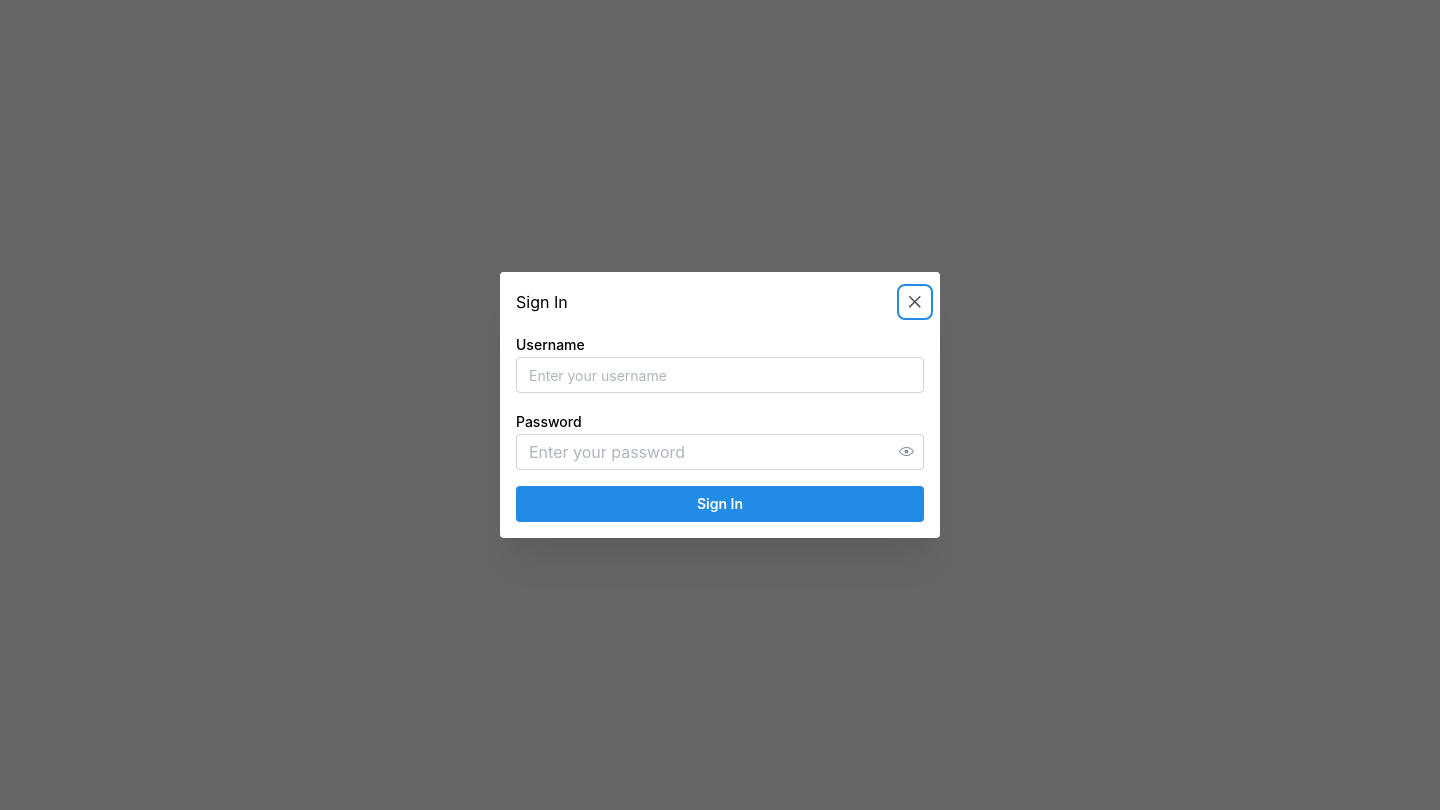
Scenario: <SignInModal /> › successful login › shows welcome message after successful login
In the field labelled "Username": (720, 375) [516,357,924,393], type "test-user"
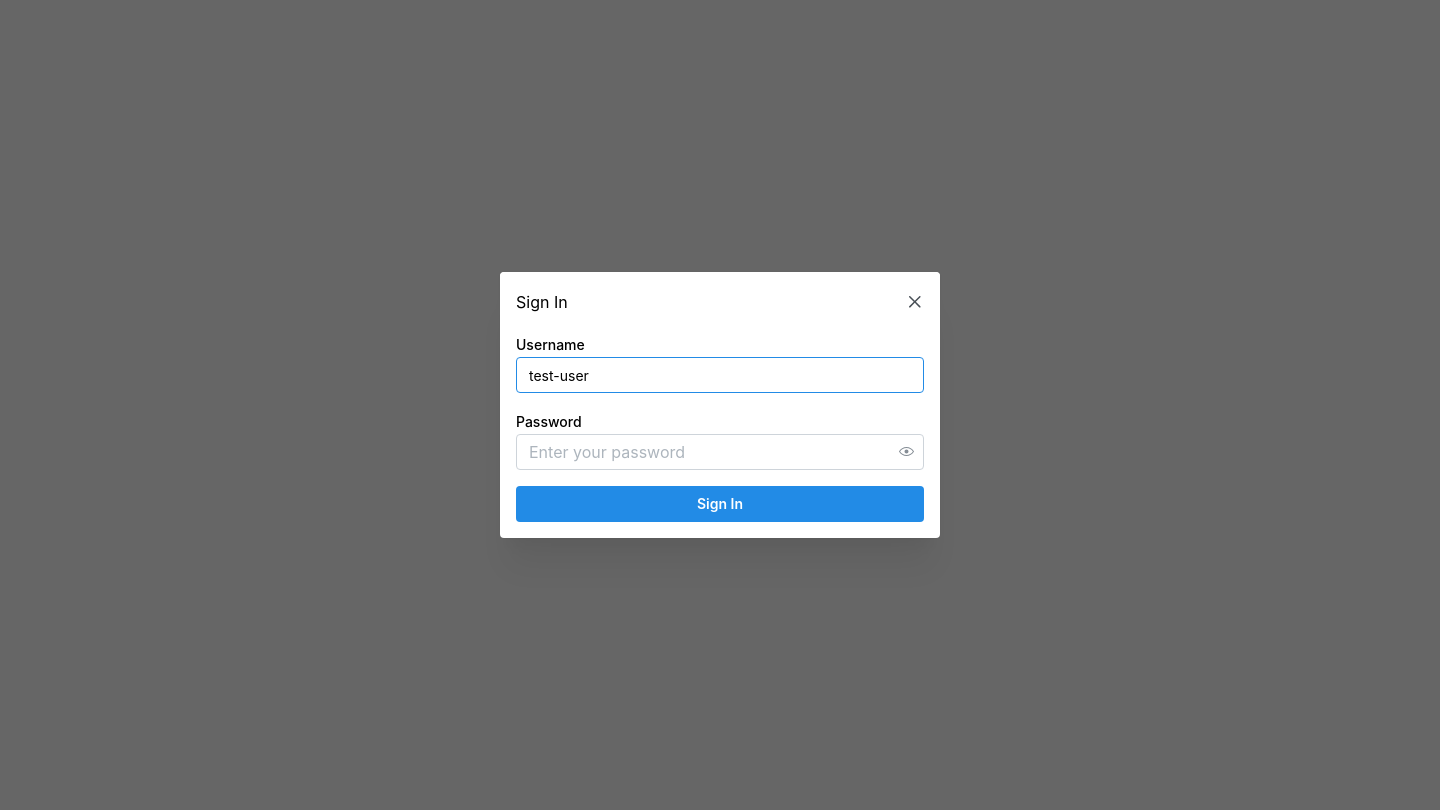
In the password field labelled "Password": (720, 452) [517,435,923,469], type "secret"
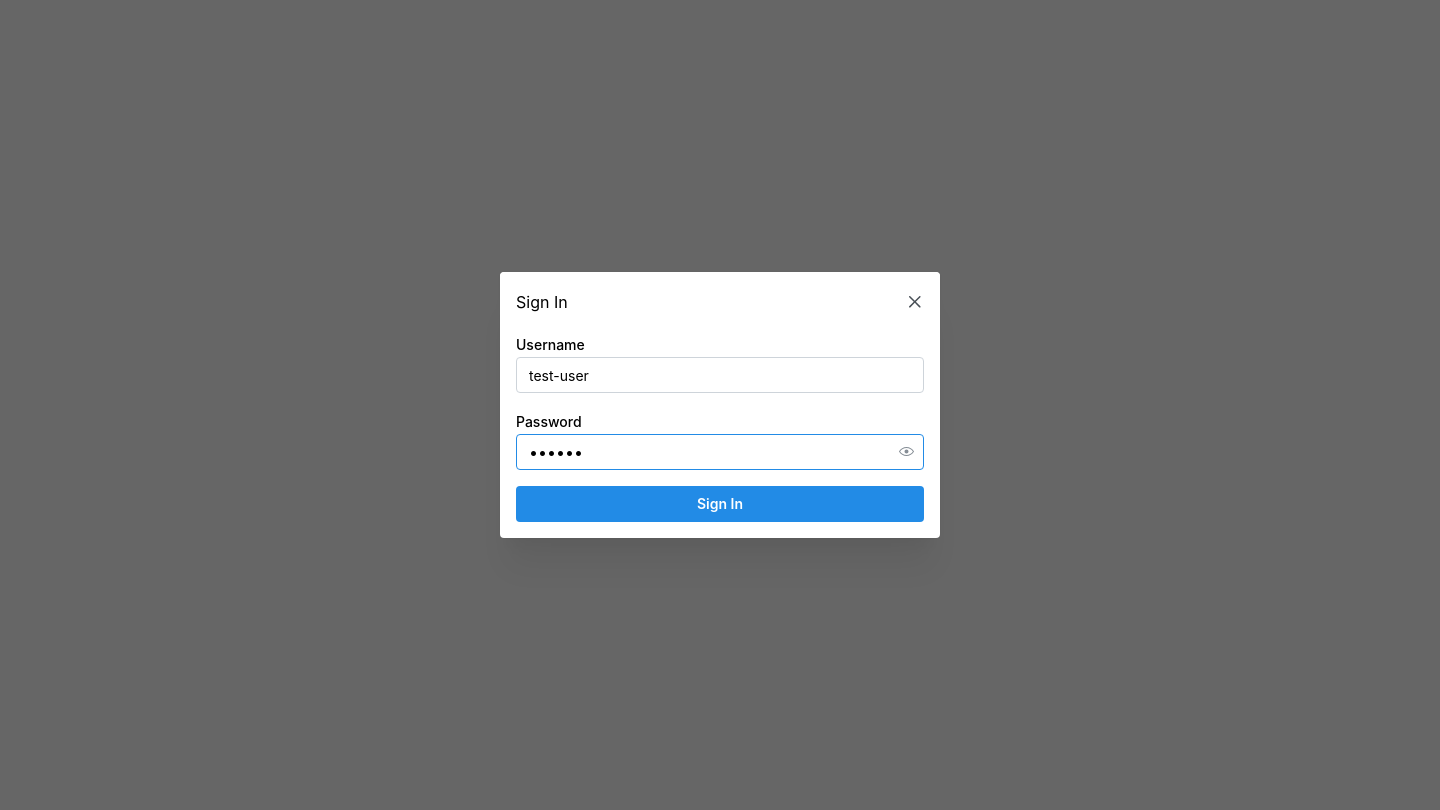
Click the button "Sign In": (720, 504) [516,486,924,522]
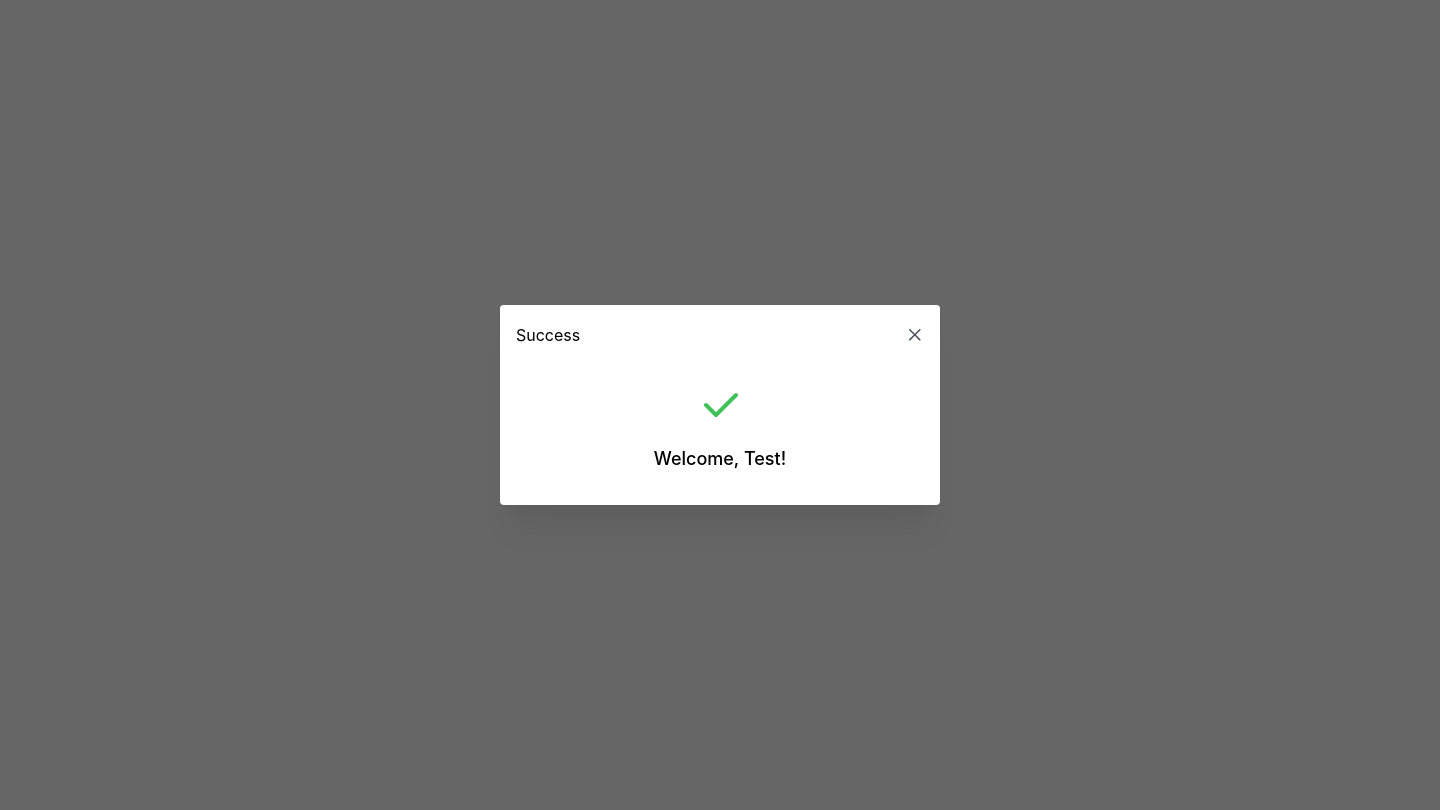
Expected: the text "Welcome, Test!" is shown, [654,445,786,473]
